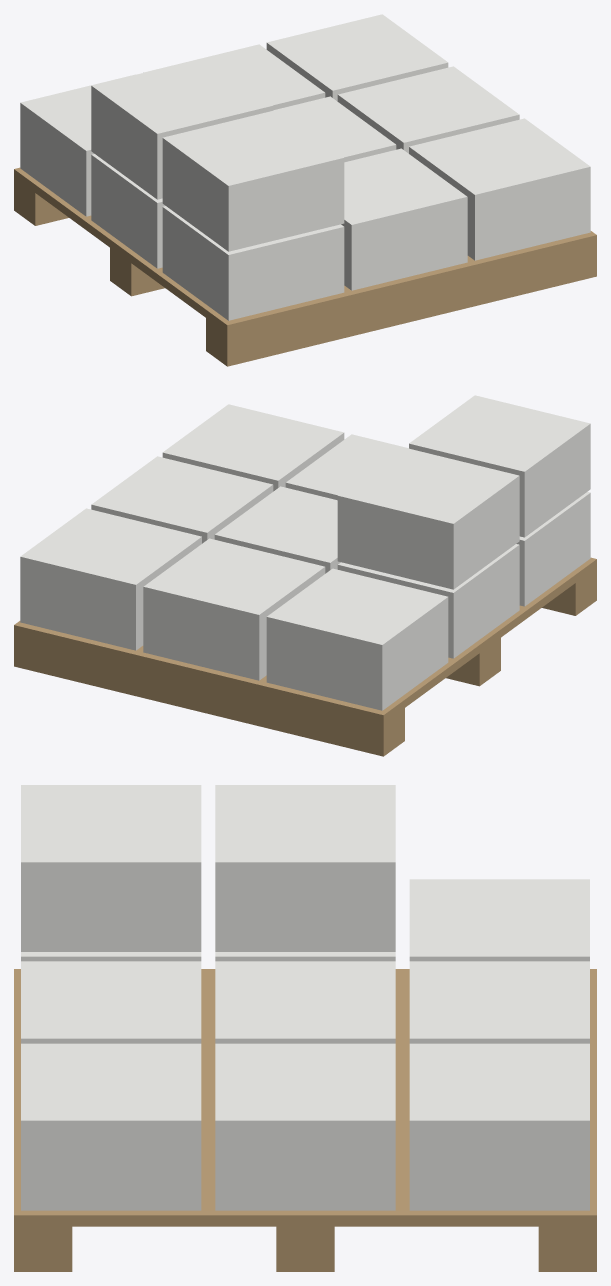
The model's file is pallet_mp_11.glb.
The picture shows the model from 3 angles, top to bottom: view 1: azimuth 30°, elevation 25°; view 2: azimuth 150°, elevation 25°; view 3: azimuth 270°, elevation 25°; orthographic projection. The views are drawn at different scales.
Visible parts, largest first — view 1: PalletMP; view 2: PalletMP; view 3: PalletMP.
Part boxes in pixels (x1,y1,x2,y2): PalletMP: (14, 14, 596, 366); PalletMP: (14, 395, 596, 756); PalletMP: (14, 785, 596, 1271).
Bounding box in the file's own units: 1 × 0.46 × 1.
